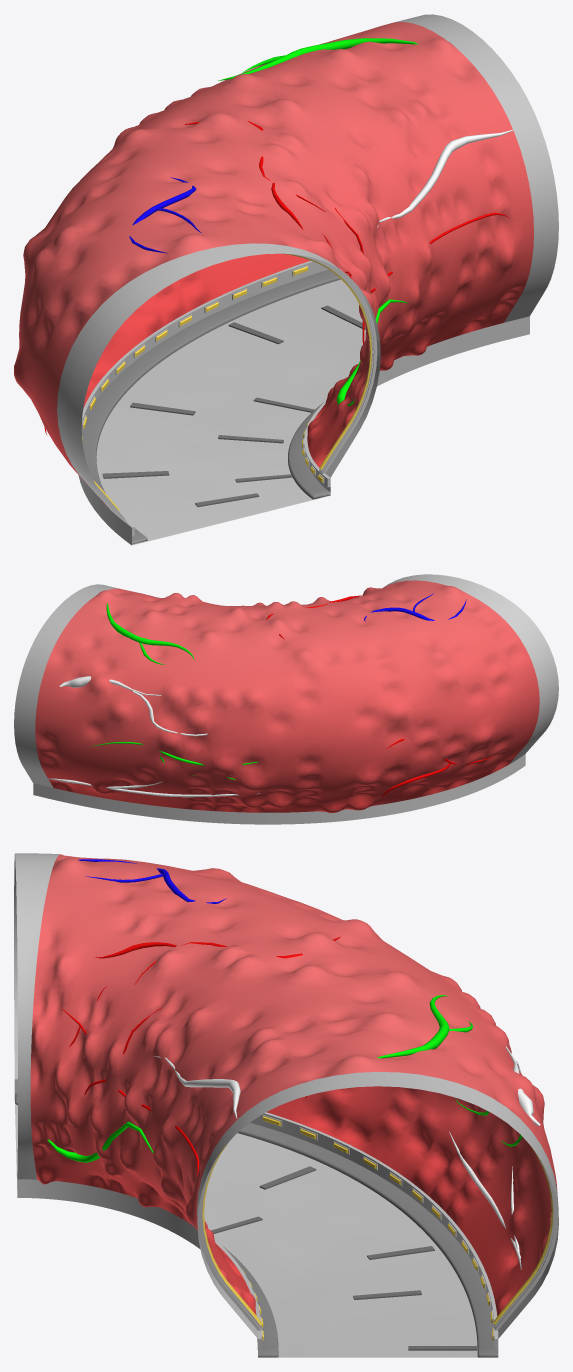
File: Terowongan_2_Kiri.fbx
The picture shows the model from 3 angles, top to bottom: view 1: azimuth 30°, elevation 25°; view 2: azimuth 150°, elevation 25°; view 3: azimuth 270°, elevation 25°; orthographic projection. The views are drawn at different scales.
Parts seen in each view (by area): view 1: Terowongan 2_Kiri; view 2: Terowongan 2_Kiri; view 3: Terowongan 2_Kiri.
Part boxes in pixels (bbox=[...]): Terowongan 2_Kiri: bbox=[14, 14, 558, 545]; Terowongan 2_Kiri: bbox=[14, 574, 558, 824]; Terowongan 2_Kiri: bbox=[14, 853, 558, 1357].
Bounding box in the file's own units: 989 × 450 × 794.
4 materials, 4 textured.
